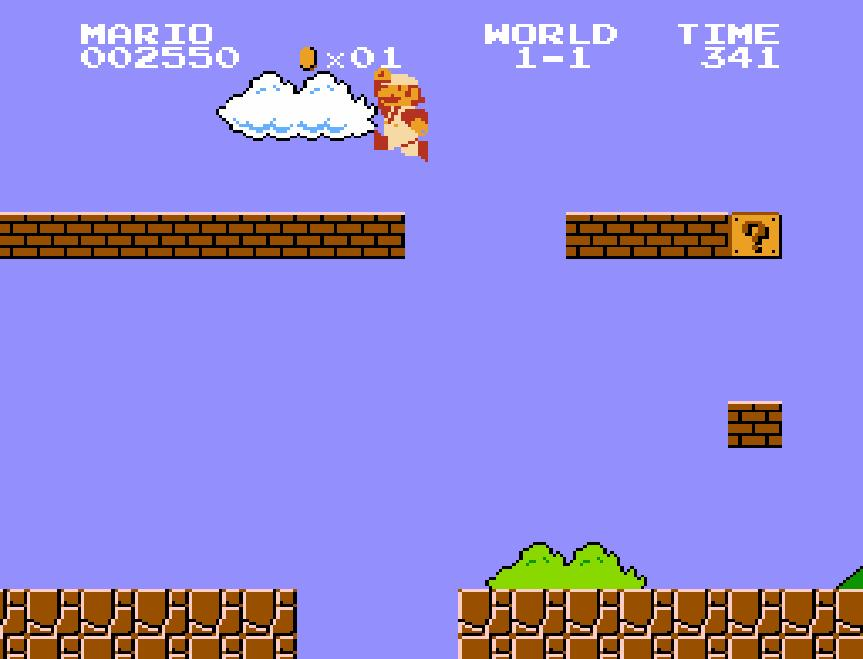fire_mario: (372, 65, 430, 163)
